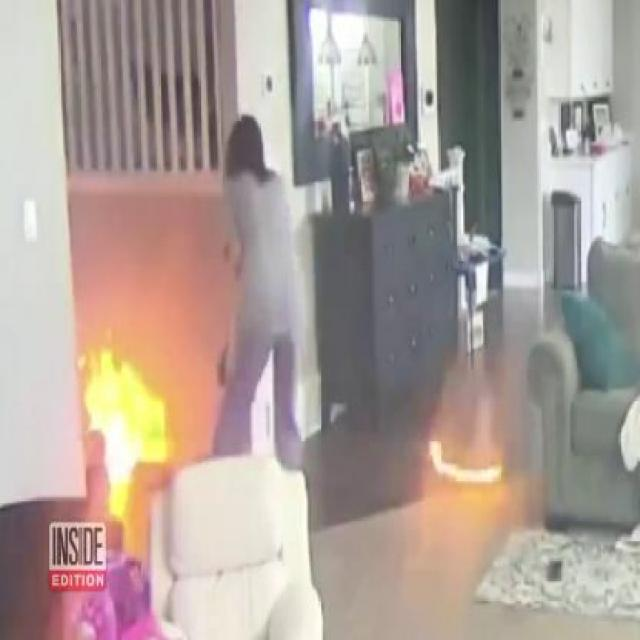fire: (419, 384, 521, 526), (82, 338, 162, 510)
smoke: (104, 215, 250, 394)
